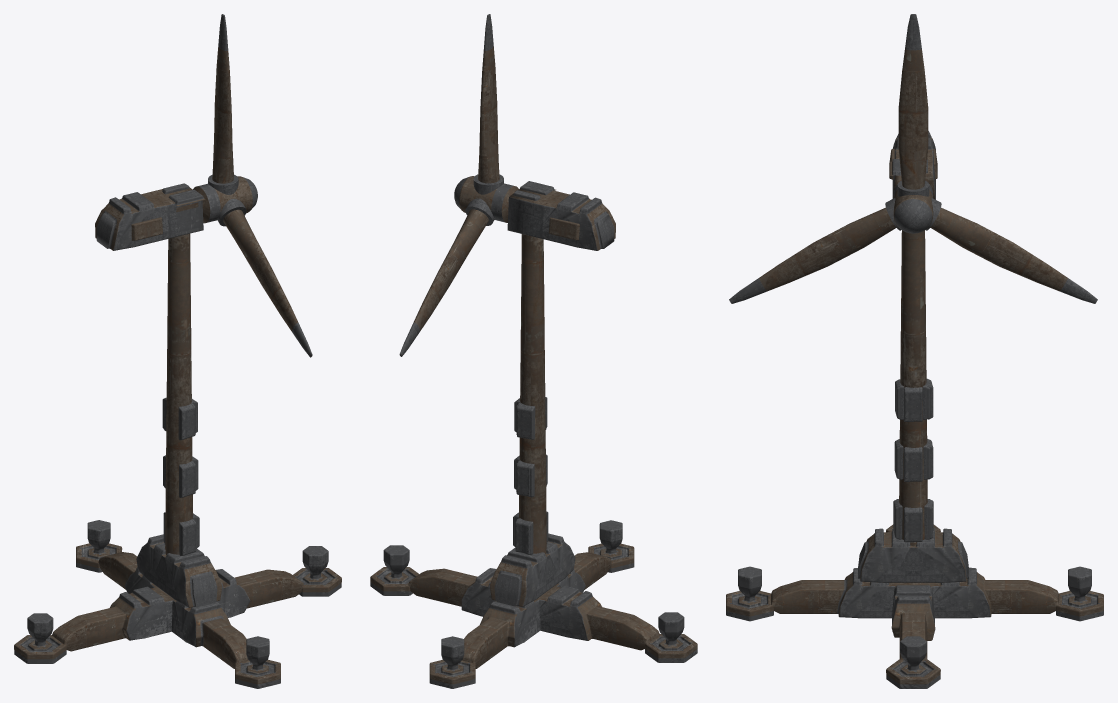
File: Windrad.gltf
The picture shows the model from 3 angles, left to right: view 1: azimuth 30°, elevation 25°; view 2: azimuth 150°, elevation 25°; view 3: azimuth 270°, elevation 25°; orthographic projection. The views are drawn at different scales.
Visible parts, largest first — view 1: Windrad_Main, Windrad_Radiator; view 2: Windrad_Main, Windrad_Radiator; view 3: Windrad_Main, Windrad_Radiator.
Part boxes in pixels (<box>): Windrad_Main: <box>14,183,341,688</box>; Windrad_Radiator: <box>193,14,312,357</box>; Windrad_Main: <box>370,181,697,688</box>; Windrad_Radiator: <box>399,14,518,356</box>; Windrad_Main: <box>726,131,1103,688</box>; Windrad_Radiator: <box>729,14,1097,303</box>.
Bounding box in the file's own units: 9.51 × 17.19 × 9.51.
